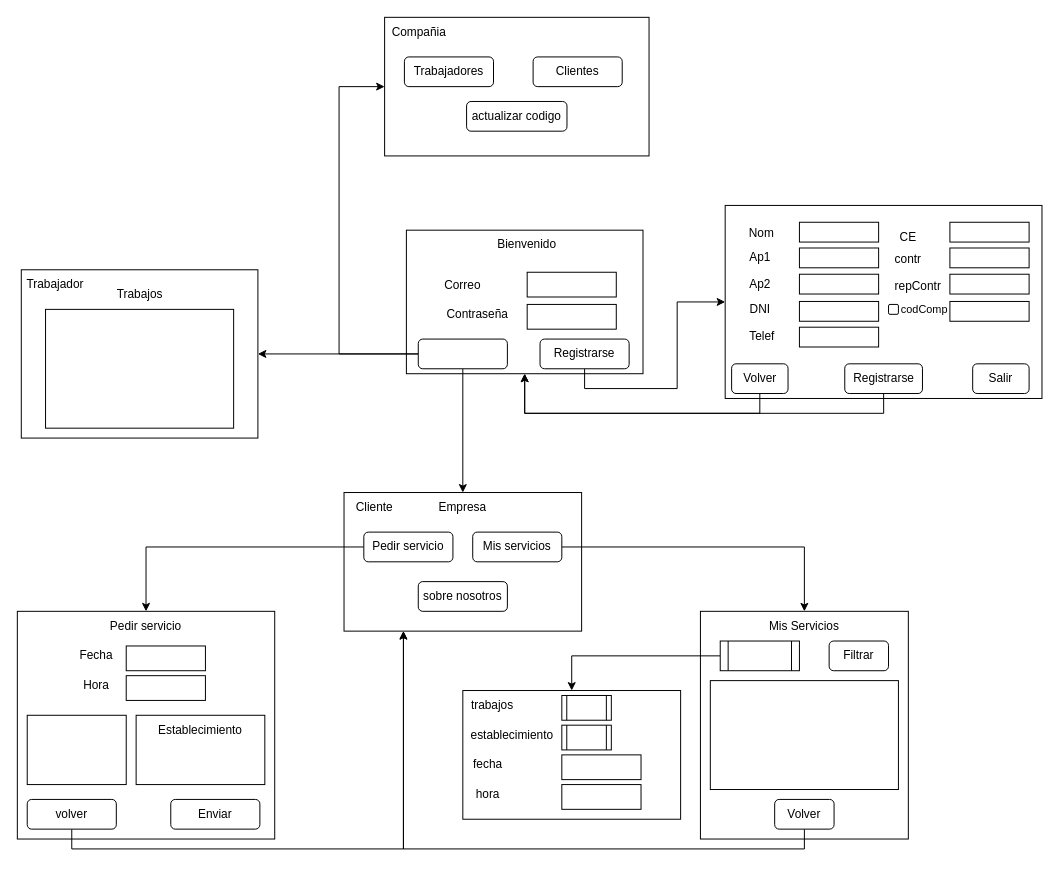
This 1059x874 diagram has some shape labels left out. Each missing label, with the box of its shape:
Filtros: (719, 640, 799, 671)
Iniciar sesion: (417, 338, 507, 369)
Trabajos a realizar: (26, 714, 126, 785)
